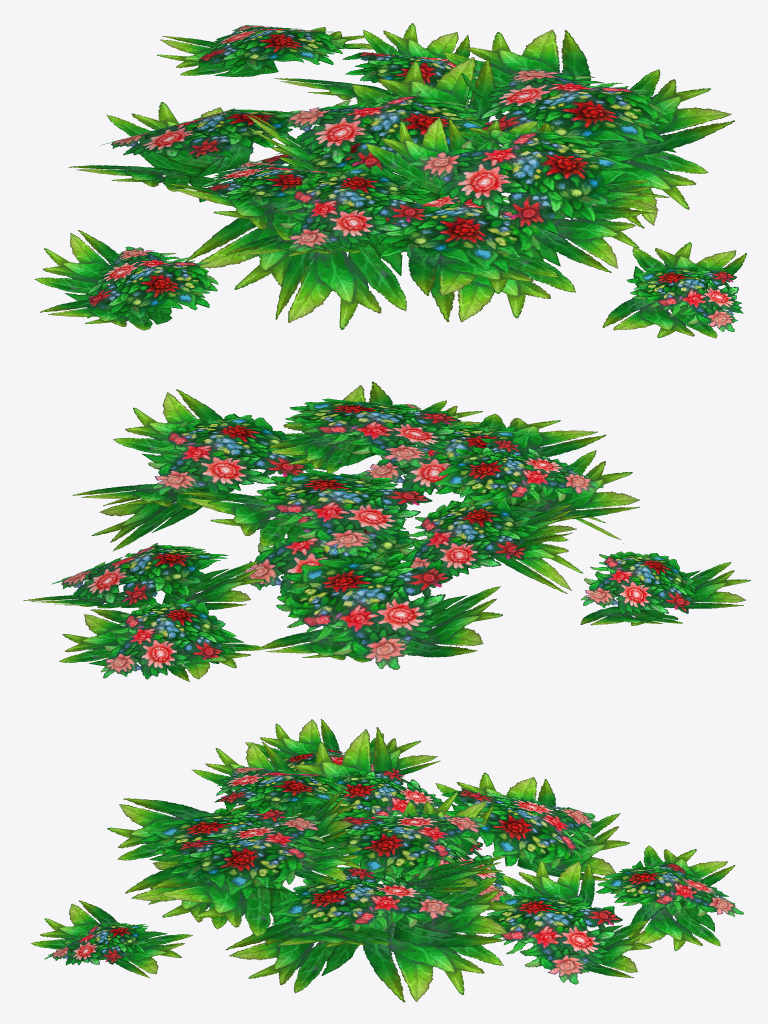
The model's file is nml-bd185.glb.
3 renders of one model, top to bottom at view 1: azimuth 30°, elevation 25°; view 2: azimuth 150°, elevation 25°; view 3: azimuth 270°, elevation 25°, orthographic. The views are drawn at different scales.
Visible parts, largest first — view 1: geom_node_0; view 2: geom_node_0; view 3: geom_node_0.
Part boxes in pixels (x1,y1,x2,y2): geom_node_0: (34,23,746,338); geom_node_0: (23,381,750,681); geom_node_0: (31,719,743,1002).
Bounding box in the file's own units: 6.1 × 1 × 6.74.
Materials: 1 (1 with a texture image).
